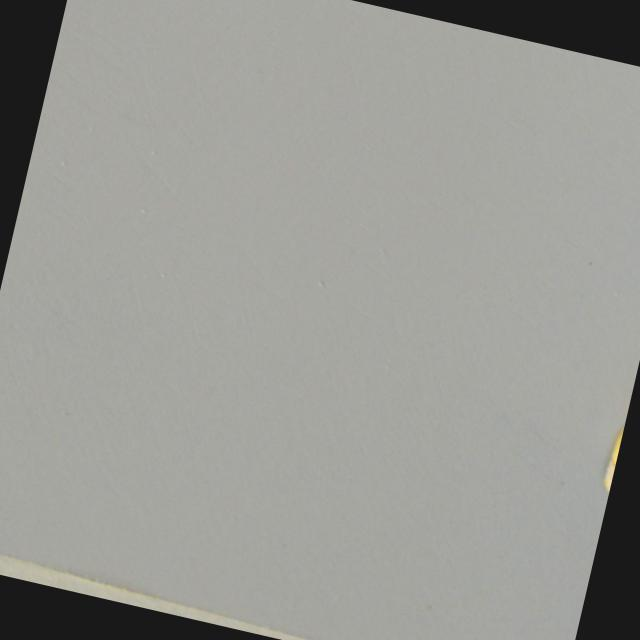entero: (593, 363, 638, 503)
